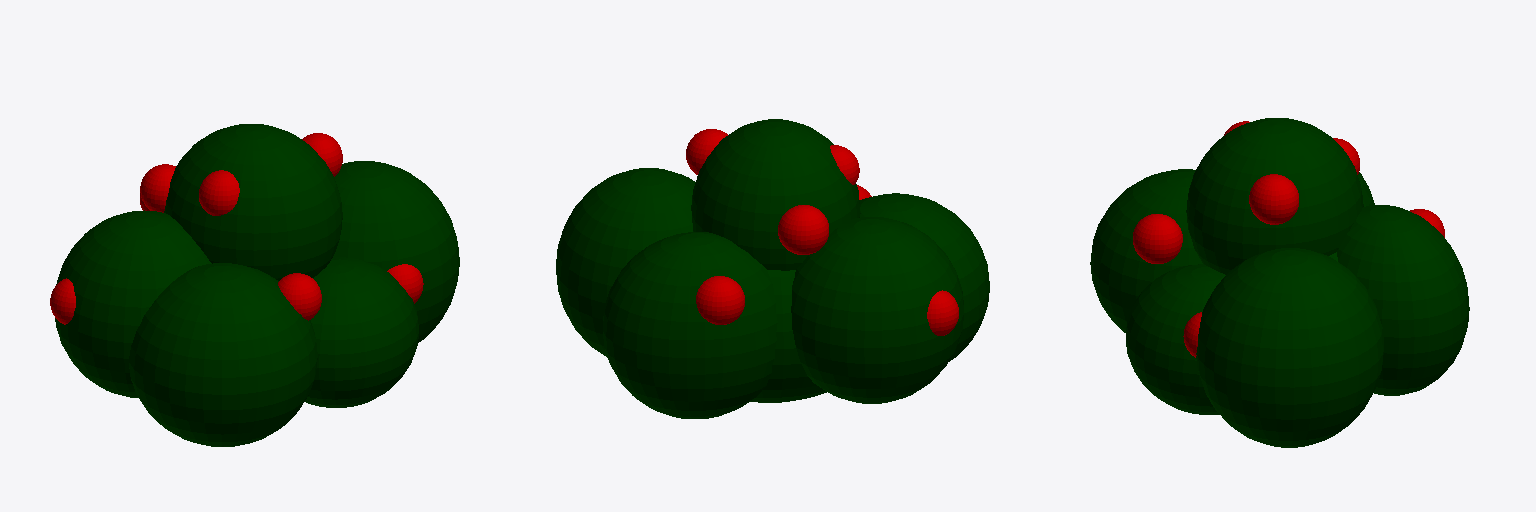
The model's file is object_bush1.obj.
The picture shows the model from 3 angles: view 1: azimuth 30°, elevation 25°; view 2: azimuth 150°, elevation 25°; view 3: azimuth 270°, elevation 25°; orthographic projection.
Visible parts, largest first — view 1: Sphere.004, Sphere.006, Sphere.002, Sphere.005, Sphere.001, Sphere.007, Sphere.009, Sphere.010, Sphere.012, Sphere.008, Sphere.013; view 2: Sphere.002, Sphere.003, Sphere.006, Sphere.001, Sphere.004, Sphere, Sphere.010, Sphere.011, Sphere.012, Sphere.008, Sphere.007; view 3: Sphere.001, Sphere.006, Sphere.003, Sphere.005, Sphere.004, Sphere.008, Sphere.009.
Part boxes in pixels (x1,y1,x2,y2): Sphere.004: (129,263,317,446); Sphere.006: (164,124,342,280); Sphere.002: (55,210,211,397); Sphere.005: (305,257,418,407); Sphere.001: (333,161,459,342); Sphere.007: (199,170,239,215); Sphere.009: (278,273,321,320); Sphere.010: (140,164,175,212); Sphere.012: (50,278,75,324); Sphere.008: (302,133,342,176); Sphere.013: (387,264,423,303); Sphere.002: (791,217,963,403); Sphere.003: (603,232,777,418); Sphere.006: (691,119,860,270); Sphere.001: (556,168,695,357); Sphere.004: (860,193,989,361); Sphere: (750,270,826,402); Sphere.010: (778,205,828,254); Sphere.011: (696,276,744,324); Sphere.012: (927,290,958,335); Sphere.008: (686,129,727,174); Sphere.007: (830,145,859,184); Sphere.001: (1196,248,1383,447); Sphere.006: (1186,118,1363,274); Sphere.003: (1337,205,1469,395); Sphere.005: (1126,264,1225,414); Sphere.004: (1090,169,1202,332); Sphere.008: (1249,174,1298,224); Sphere.009: (1133,214,1182,263).
Bounding box in the file's own units: 3.9 × 2.44 × 3.28.